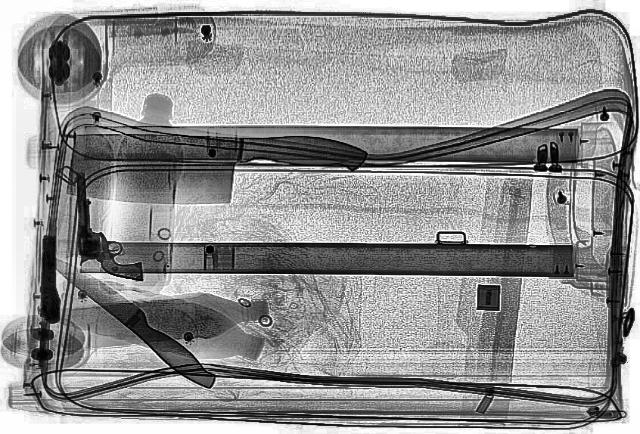Gun: (65, 170, 143, 282), (34, 237, 66, 322)
Knife: (35, 244, 231, 394), (64, 130, 368, 206)
